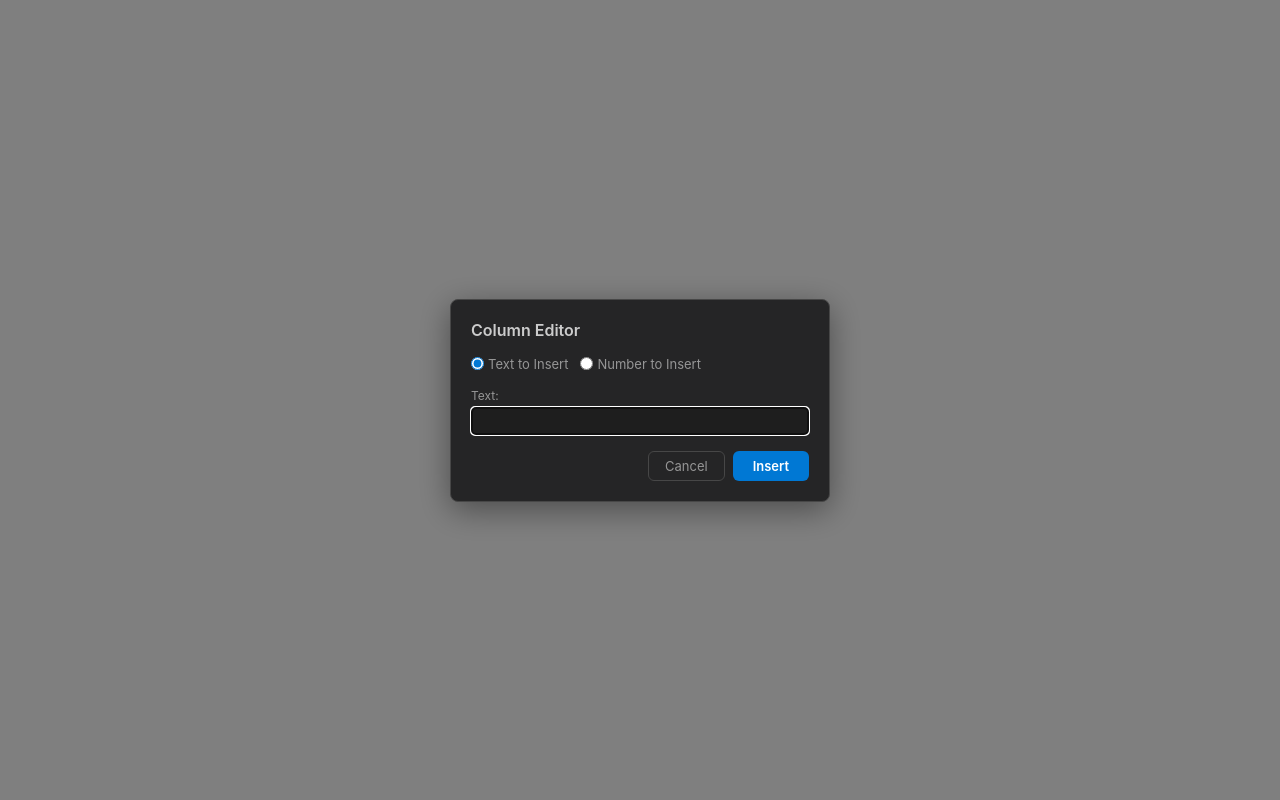
Test: ColumnEditorDialog › switches to number mode when selected
Click the text "Number to Insert": click(641, 364) [580,356,701,372]
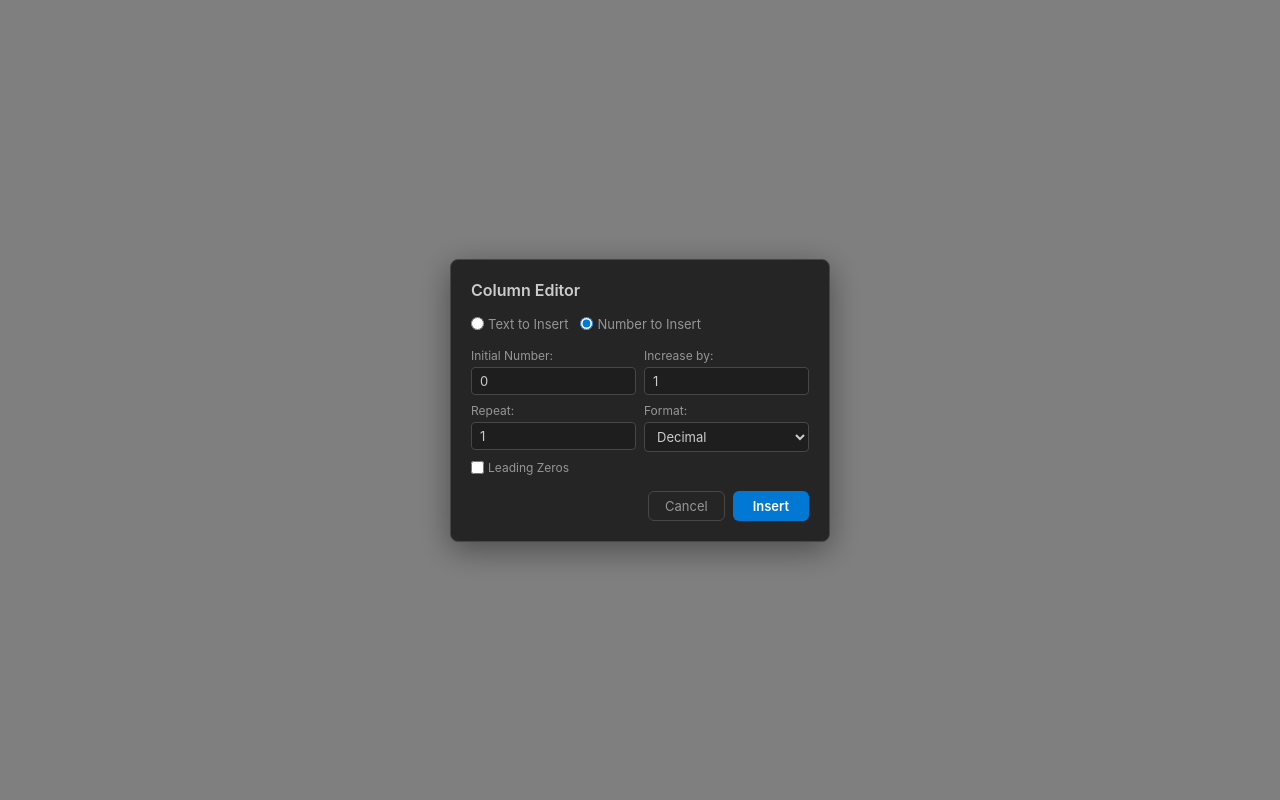
Now the text "Initial Number:" is shown, box [471,348,553,362]
Now the text "Increase by:" is shown, box [644,348,713,362]
